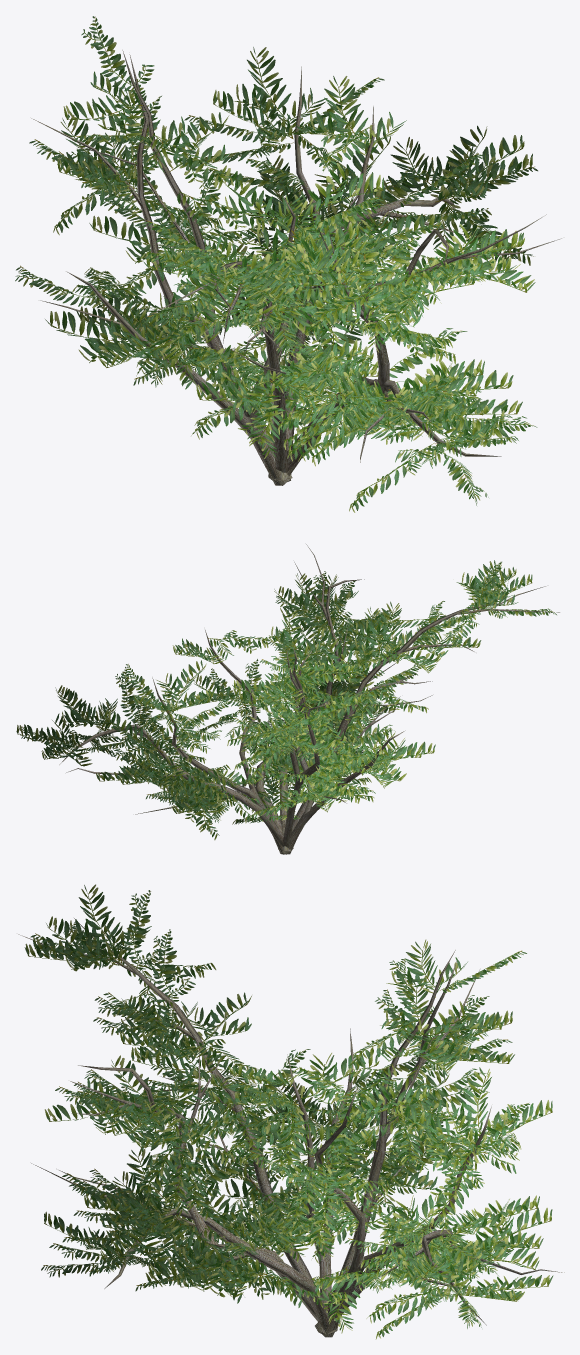
Rendered from SM_bush_03.fbx.
3 views of the same model, one above another, from view 1: azimuth 30°, elevation 25°; view 2: azimuth 150°, elevation 25°; view 3: azimuth 270°, elevation 25° (orthographic). The views are drawn at different scales.
Visible parts, largest first — view 1: SM_bush_03_LOD0; view 2: SM_bush_03_LOD0; view 3: SM_bush_03_LOD0.
Part boxes in pixels (box(x1,y1,x2,y2)): SM_bush_03_LOD0: box(15, 16, 561, 512); SM_bush_03_LOD0: box(16, 544, 559, 854); SM_bush_03_LOD0: box(18, 884, 564, 1339).
Size of the model in its own units: 191 by 166 by 118.
2 materials, 2 textured.
